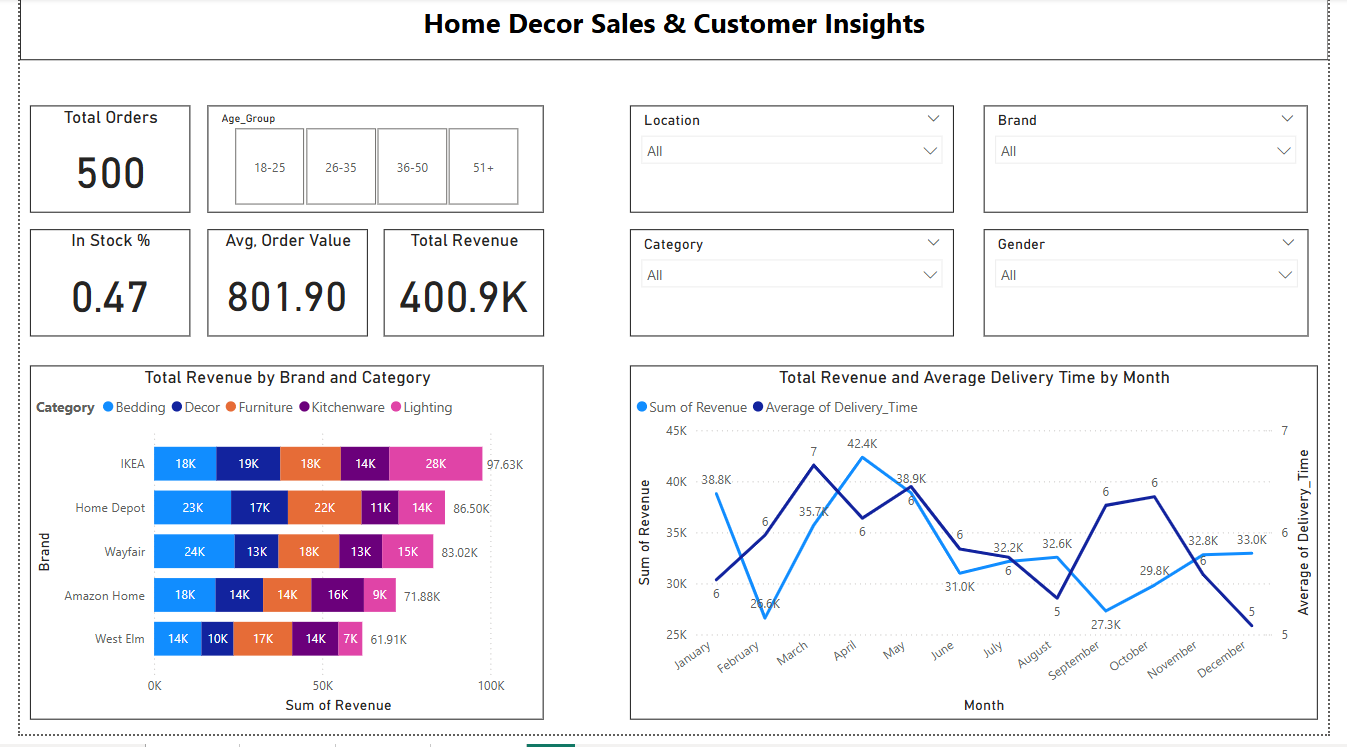

This screenshot's page, from the dashboard's own definition file:
{"tool":"powerbi","page":{"name":"Page 1","canvas":[1280,720],"ordinal":0},"visuals":[{"type":"barChart","title":"Total Revenue by Brand and Category","fields":{"Y":["Sum(Sales_Data.Revenue)"],"Category":["Sales_Data.Brand"],"Series":["Sales_Data.Category"]},"box":[9.8,359.5,502.6,346.1],"z":0},{"type":"lineChart","title":"Total Revenue and Average Delivery Time by Month","fields":{"Y":["Sum(Sales_Data.Revenue)"],"Category":["Sales_Data.Purchase_Date.Variation.Date Hierarchy.Month"],"Y2":["Avg(Sales_Data.Delivery_Time)"]},"box":[596.7,359.5,672.6,346.1],"z":1000},{"type":"card","title":"Total Orders","fields":{"Values":["Competitor_Pricing.Total Orders"]},"box":[9.8,105.2,156.5,105.2],"z":2000},{"type":"card","title":"Total Revenue","fields":{"Values":["Competitor_Pricing.Total Revenue"]},"box":[355.8,226.2,156.5,105.2],"z":3000},{"type":"card","title":"Avg, Order Value","fields":{"Values":["Competitor_Pricing.Avg_Order_Value"]},"box":[183.4,226.2,156.5,105.2],"z":4000},{"type":"card","title":"In Stock % ","fields":{"Values":["Competitor_Pricing.In_Stock_Percentage"]},"box":[9.8,226.2,156.5,105.2],"z":5000},{"type":"slicer","fields":{"Values":["Competitor_Pricing.Brand"]},"box":[942.8,105.2,316.7,105.2],"z":6000},{"type":"slicer","fields":{"Values":["Competitor_Pricing.Category"]},"box":[596.7,226.2,316.7,105.2],"z":7000},{"type":"slicer","fields":{"Values":["Customer_Data.Gender"]},"box":[942.8,226.2,317.9,105.2],"z":8000},{"type":"slicer","fields":{"Values":["Customer_Data.Location"]},"box":[596.7,105.2,316.7,105.2],"z":9000},{"type":"slicer","fields":{"Values":["Customer_Data.Age_Group"]},"box":[183.4,105.2,328.9,105.2],"z":10000},{"type":"textbox","box":[0,0,1280.3,61.1],"z":11000}]}

Visuals, with their boxes in screenshot pixels (x1, y1, x2, y2), scaled from the page's 1280x720 canvas onto the 1347x747 screenshot:
"Total Revenue by Brand and Category" barChart: locate(10, 373, 539, 732)
"Total Revenue and Average Delivery Time by Month" lineChart: locate(628, 373, 1336, 732)
"Total Orders" card: locate(10, 109, 175, 218)
"Total Revenue" card: locate(374, 235, 539, 344)
"Avg, Order Value" card: locate(193, 235, 358, 344)
"In Stock % " card: locate(10, 235, 175, 344)
slicer - Competitor_Pricing.Brand: locate(992, 109, 1325, 218)
slicer - Competitor_Pricing.Category: locate(628, 235, 961, 344)
slicer - Customer_Data.Gender: locate(992, 235, 1327, 344)
slicer - Customer_Data.Location: locate(628, 109, 961, 218)
slicer - Customer_Data.Age_Group: locate(193, 109, 539, 218)
textbox: locate(0, 0, 1346, 63)
